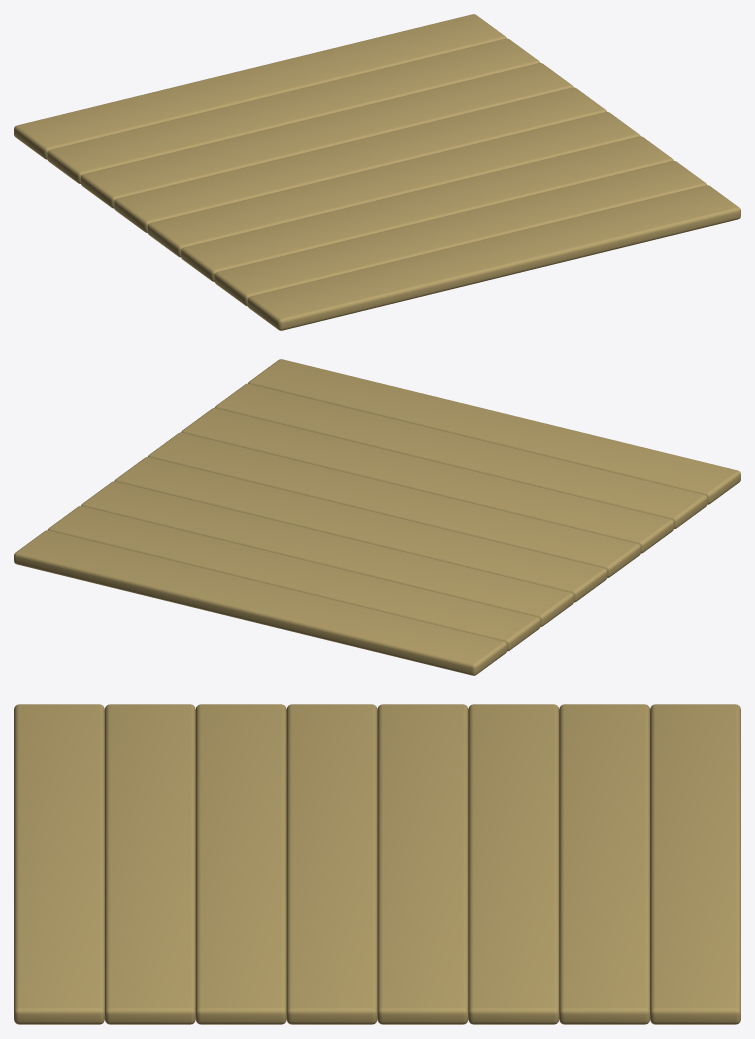
File: floor_bottom.glb
The picture shows the model from 3 angles, top to bottom: view 1: azimuth 30°, elevation 25°; view 2: azimuth 150°, elevation 25°; view 3: azimuth 270°, elevation 25°; orthographic projection. The views are drawn at different scales.
Visible parts, largest first — view 1: Floor_Bottom; view 2: Floor_Bottom; view 3: Floor_Bottom.
Part boxes in pixels (x1,y1,x2,y2): Floor_Bottom: (14,14,740,330); Floor_Bottom: (14,359,740,675); Floor_Bottom: (14,704,740,1024).
Size of the model in its own units: 40 by 1 by 40.
